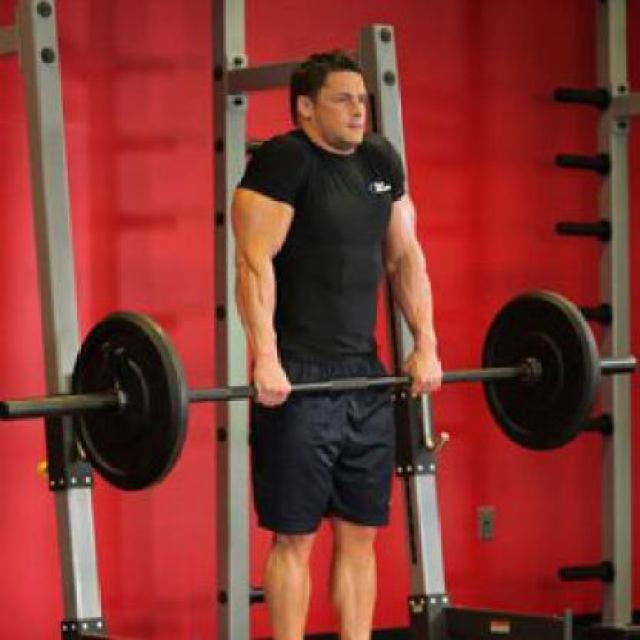barbell: (65, 306, 192, 500), (477, 281, 606, 455)
